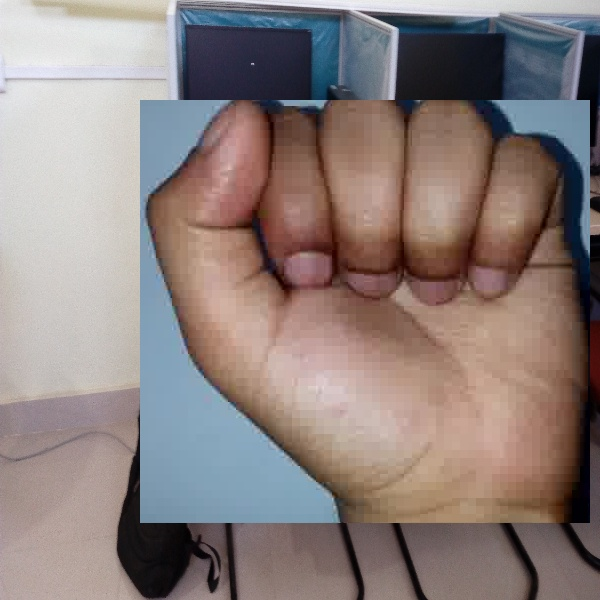A: (140, 100, 590, 523)
